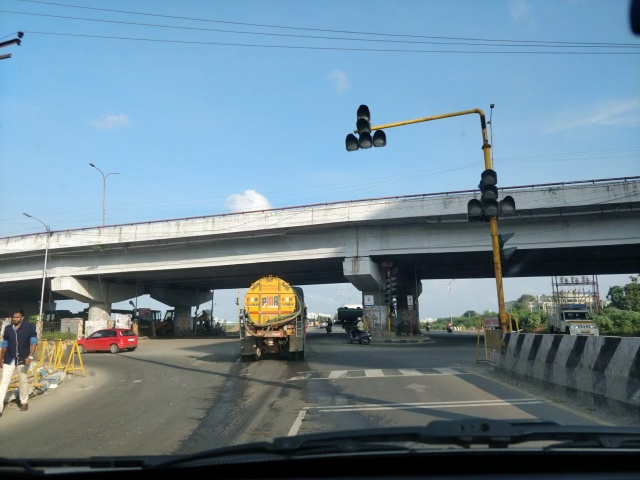car: (543, 302, 599, 341), (71, 328, 138, 353), (317, 320, 329, 329)
motorbike: (347, 318, 376, 347), (325, 318, 335, 335), (444, 320, 455, 335), (424, 320, 433, 332)
person: (2, 305, 40, 420)
truck: (230, 275, 311, 364)
